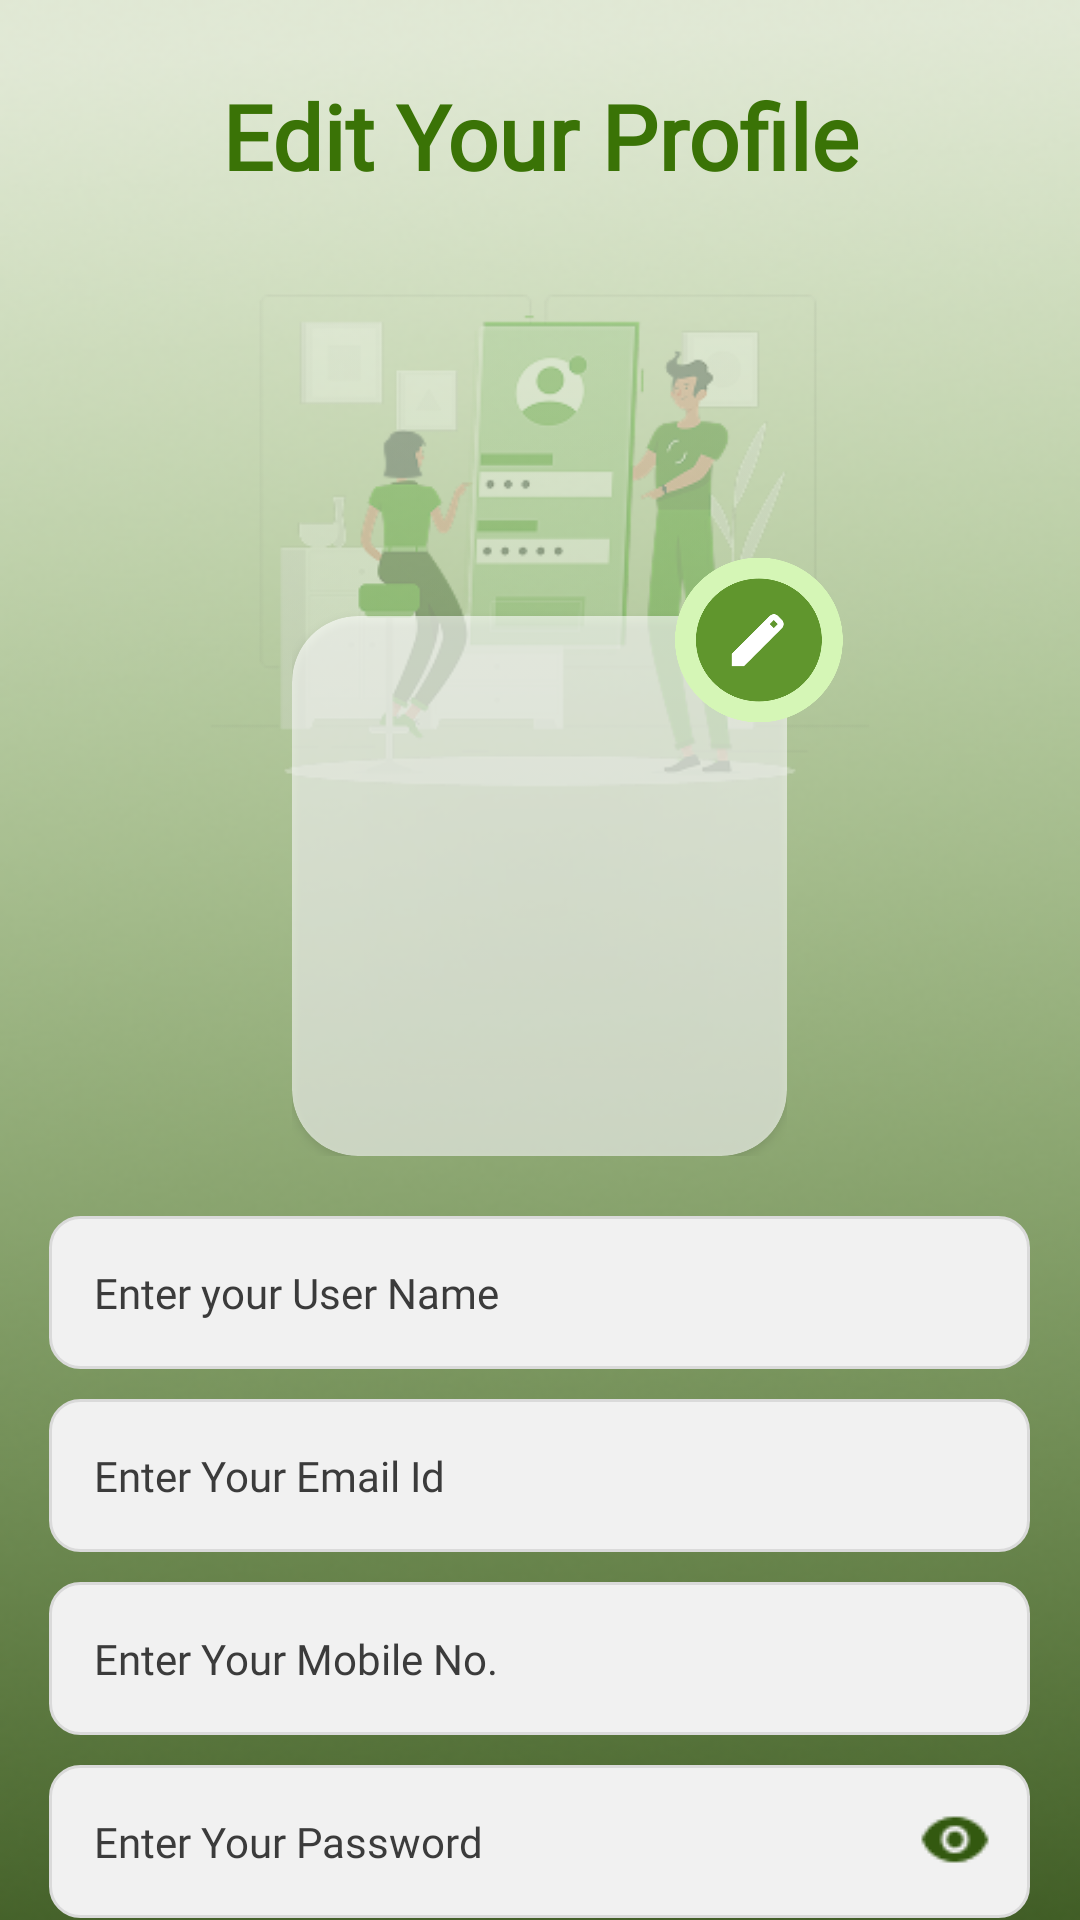

Icons on this 1080w x 1920h Android screen, each with the point to tap as point (x, y):
profile edit: point (759, 640)
visibility: point (955, 1839)
